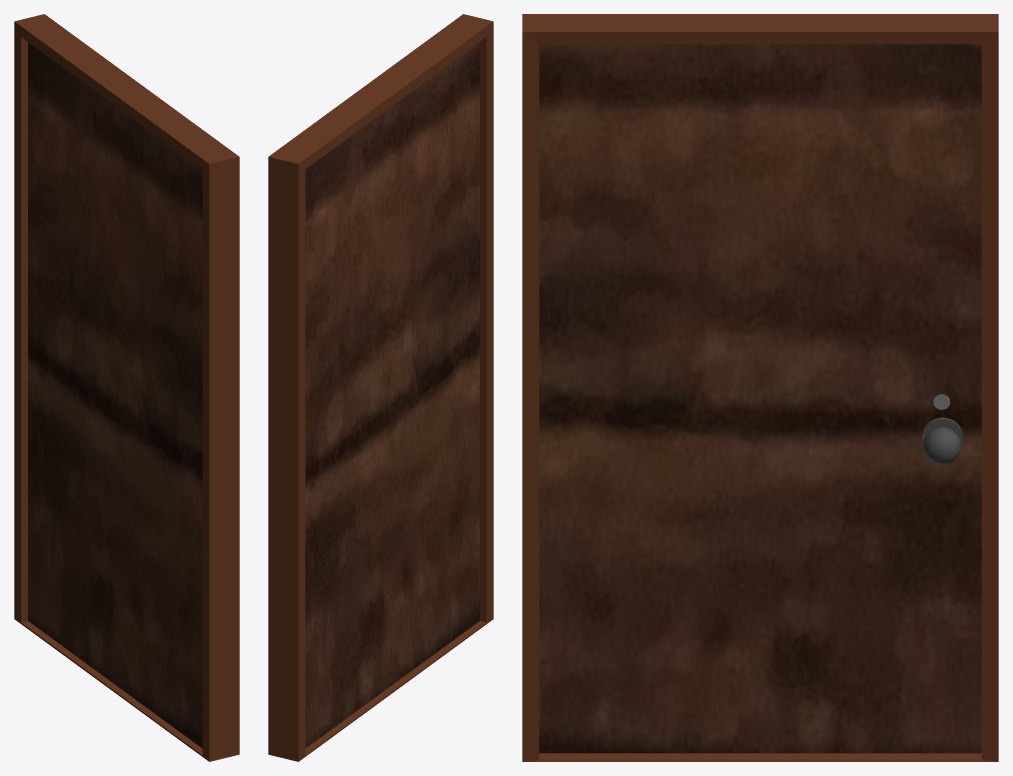
The model's file is door.glb.
3 renders of one model, left to right at view 1: azimuth 30°, elevation 25°; view 2: azimuth 150°, elevation 25°; view 3: azimuth 270°, elevation 25°, orthographic. The views are drawn at different scales.
Visible parts, largest first — view 1: Cube.001, Cube.003; view 2: Cube.001, Cube.003; view 3: Cube.001, Cube.003.
Part boxes in pixels (x1,y1,x2,y2): Cube.001: [28, 42, 202, 748]; Cube.003: [14, 14, 239, 761]; Cube.001: [305, 42, 479, 748]; Cube.003: [268, 14, 493, 761]; Cube.001: [539, 44, 981, 753]; Cube.003: [522, 14, 998, 761].
Size of the model in its own units: 0.5553 by 6.4 by 3.79.
4 materials, 3 textured.
